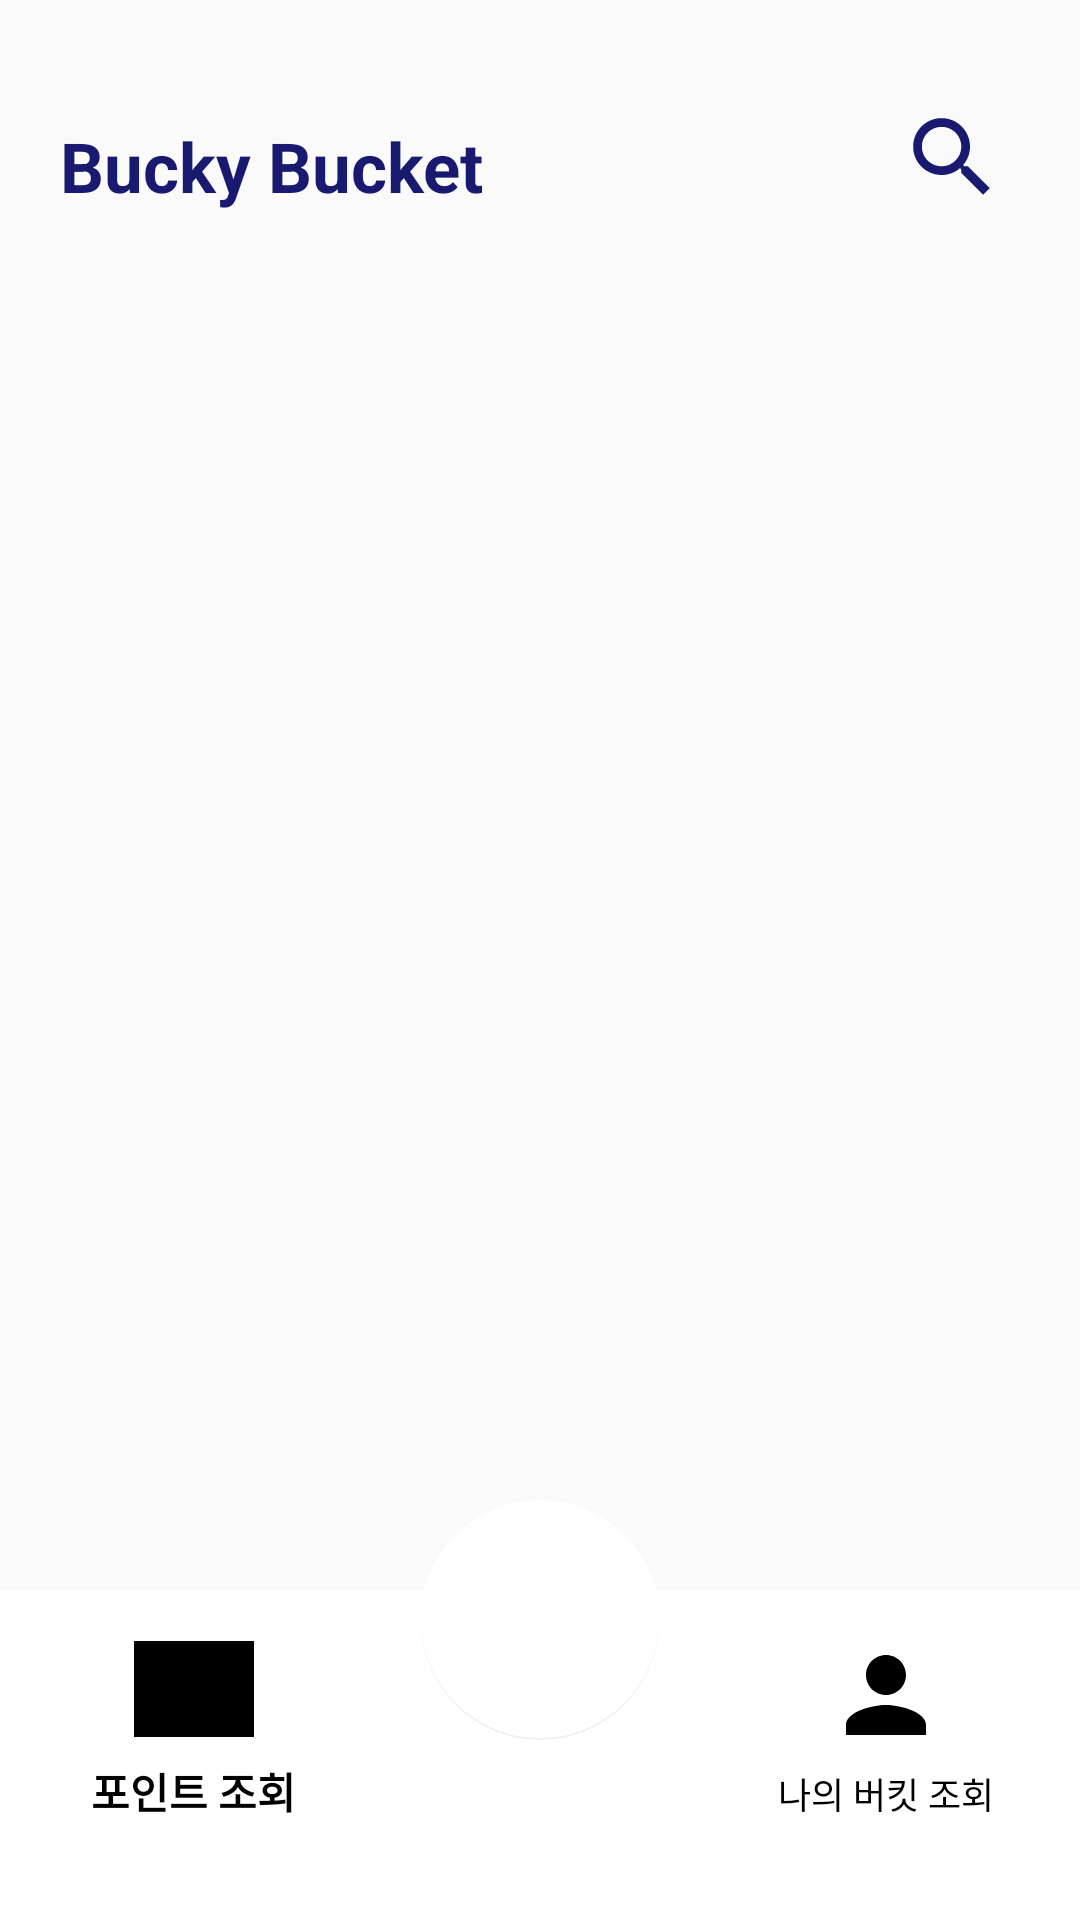

Locate icon controls on the screen. Image size 1080 × 1920, boxes as (x1, y1, x2, y2).
searchicon: (913, 118, 990, 195)
